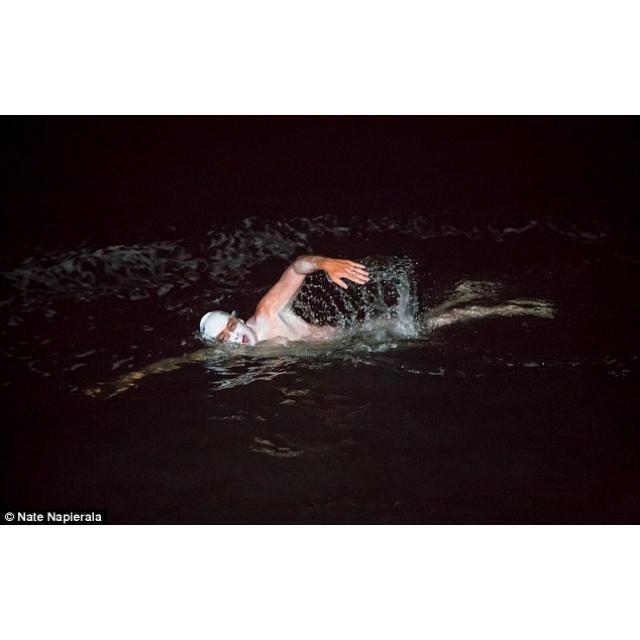human: (114, 252, 549, 383)
